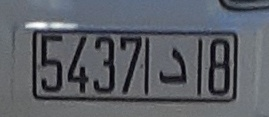3: (92, 35, 116, 95)
4: (65, 35, 94, 94)
5: (38, 33, 63, 95)
7: (117, 34, 143, 96)
8: (207, 37, 232, 98)
d: (155, 42, 189, 91)
